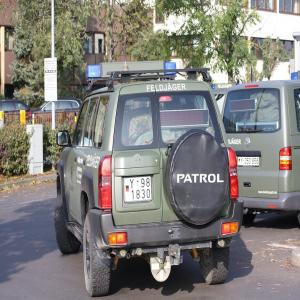Vehicle-registration-plate: (123, 177, 154, 204), (238, 158, 260, 168)
